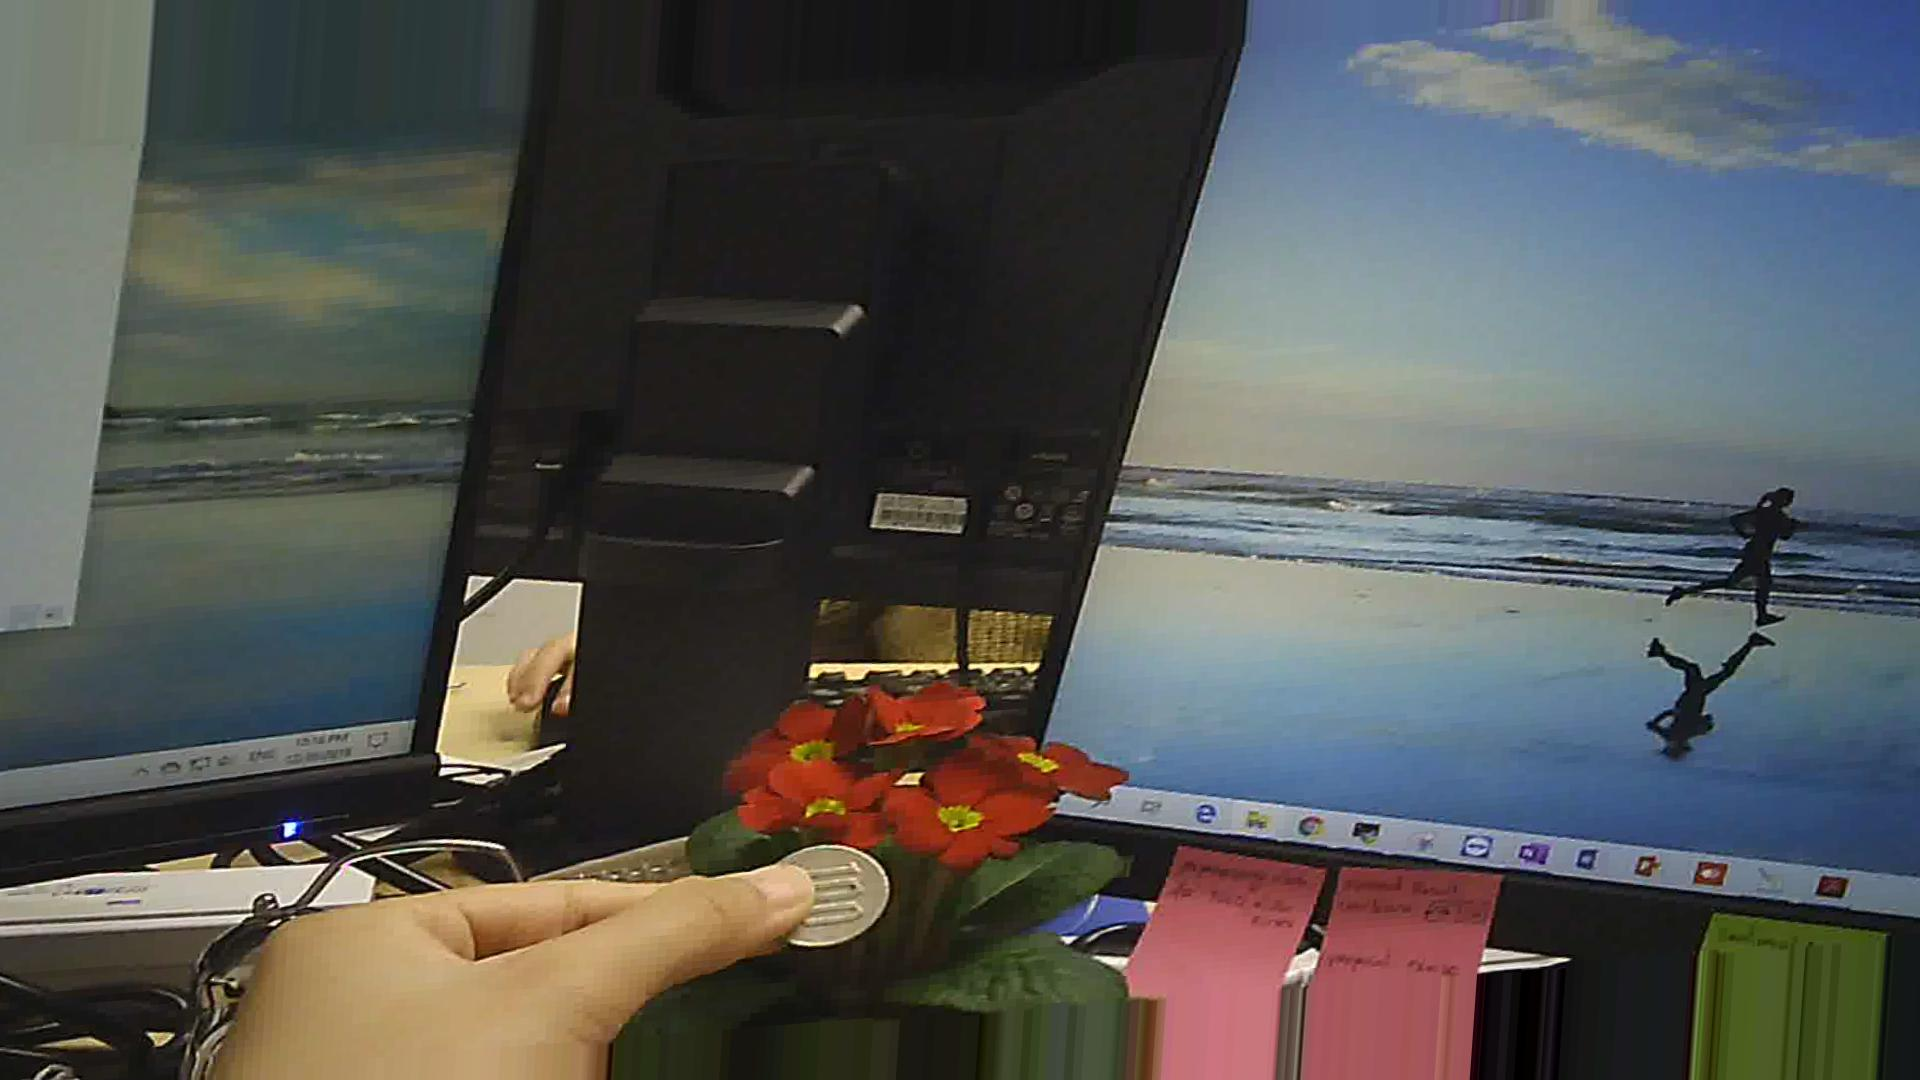100 Yen: (760, 833, 906, 943)
